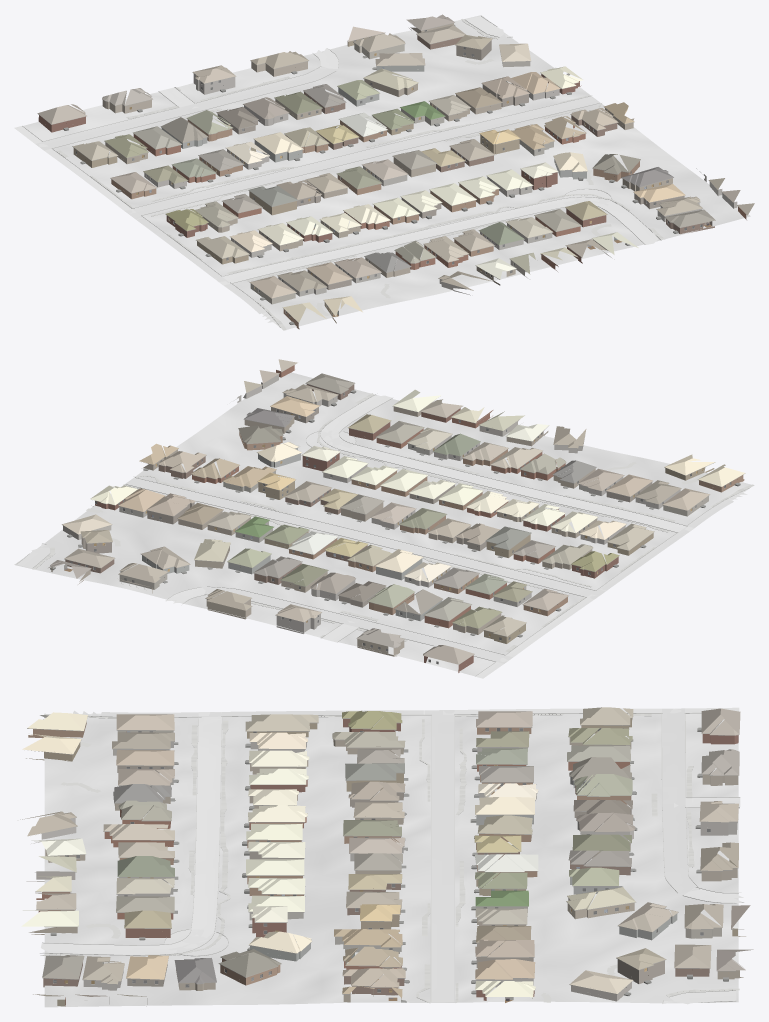
3 views of the same model, one above another, from view 1: azimuth 30°, elevation 25°; view 2: azimuth 150°, elevation 25°; view 3: azimuth 270°, elevation 25° (orthographic). The views are drawn at different scales.
Visible parts, largest first — view 1: roof, ground, concrete, wall, detail, walk, curb, wall_stucco, wall_stone, glass; view 2: roof, ground, wall, concrete, detail, wall_stucco, curb, wall_stone, walk, glass; view 3: ground, roof, concrete, wall, detail, walk, wall_stucco, curb, wall_stone, glass.
Boxes of the visible parts, x1,y1,x2,y2 form: roof: [38, 14, 754, 322]; ground: [23, 15, 750, 329]; concrete: [14, 16, 658, 322]; wall: [38, 23, 746, 329]; detail: [37, 22, 739, 324]; walk: [57, 19, 664, 330]; curb: [22, 16, 661, 327]; wall_stucco: [102, 43, 586, 304]; wall_stone: [144, 74, 737, 296]; glass: [76, 30, 702, 316]; roof: [48, 359, 745, 664]; ground: [14, 372, 751, 676]; wall: [51, 365, 744, 672]; concrete: [17, 395, 747, 678]; detail: [50, 364, 745, 664]; wall_stucco: [63, 419, 708, 656]; curb: [16, 393, 750, 676]; wall_stone: [119, 374, 680, 633]; walk: [32, 393, 754, 651]; glass: [70, 393, 730, 664]; ground: [44, 713, 738, 1007]; roof: [20, 707, 753, 997]; concrete: [41, 707, 743, 1004]; wall: [26, 718, 745, 1006]; detail: [27, 715, 743, 1002]; walk: [42, 713, 739, 1003]; wall_stucco: [26, 730, 738, 1001]; curb: [40, 712, 743, 1003]; wall_stone: [31, 742, 737, 1006]; glass: [53, 728, 710, 992].
Size of the model in its own units: 257 by 13.57 by 267.
